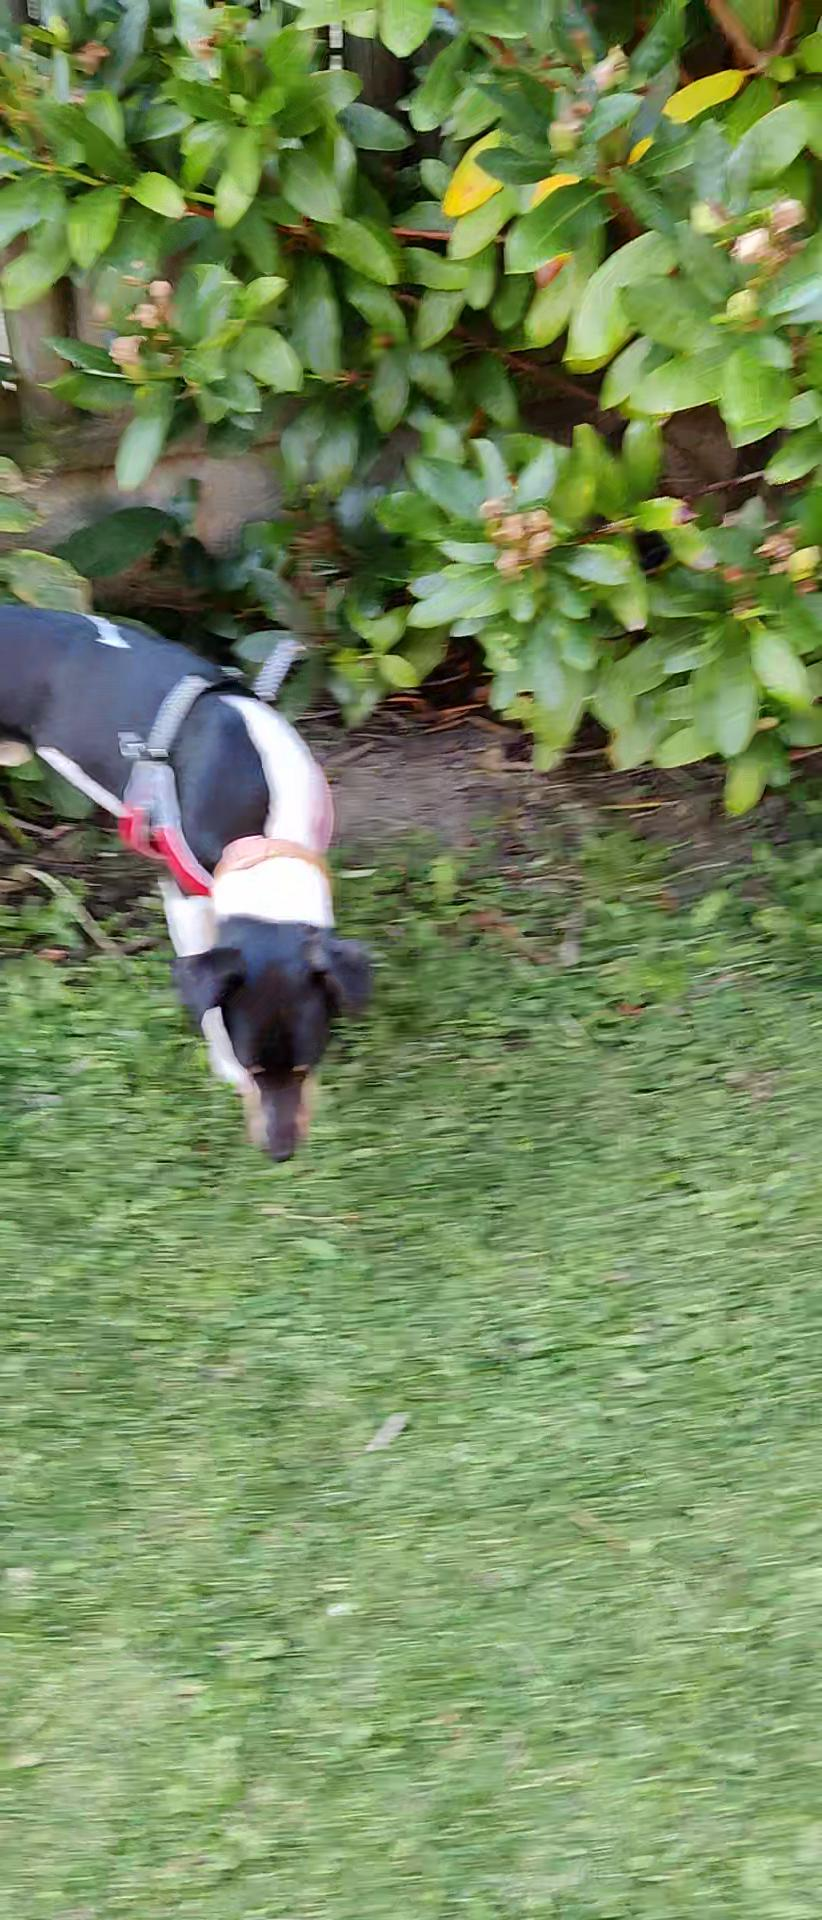Dog: (0, 555, 392, 1182)
